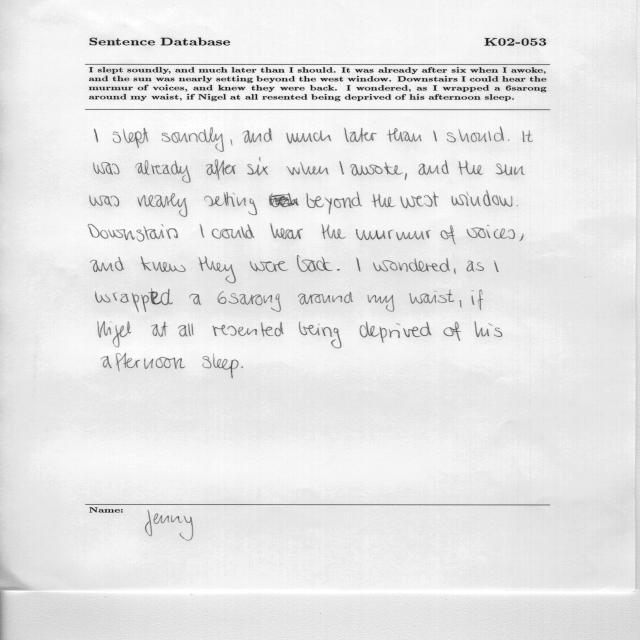word: (269, 192, 362, 215), (95, 289, 173, 313), (88, 224, 178, 242), (102, 353, 186, 372), (360, 321, 432, 343), (162, 127, 224, 152), (218, 291, 282, 312), (136, 160, 191, 183), (204, 192, 257, 215), (138, 193, 188, 217), (299, 322, 342, 348), (373, 258, 450, 272), (213, 322, 284, 337), (452, 190, 513, 207), (350, 163, 407, 181), (198, 257, 236, 284), (203, 354, 239, 379), (98, 322, 131, 348), (447, 127, 504, 142), (356, 229, 431, 240), (113, 128, 149, 148), (141, 256, 186, 272), (298, 292, 353, 305), (409, 289, 454, 304), (467, 225, 515, 239), (206, 159, 236, 180), (212, 224, 254, 239), (401, 192, 439, 208), (297, 255, 332, 272), (287, 131, 332, 144), (286, 162, 329, 175), (91, 257, 125, 272), (344, 128, 377, 143), (270, 224, 303, 239), (387, 128, 422, 142), (368, 295, 395, 312), (243, 128, 273, 143), (475, 321, 503, 337), (250, 261, 288, 272), (248, 158, 269, 176), (458, 160, 483, 175), (321, 224, 346, 239), (495, 164, 525, 176), (444, 322, 462, 341), (94, 162, 120, 175), (90, 196, 119, 207), (372, 194, 396, 207), (441, 225, 456, 245), (151, 321, 168, 337), (418, 163, 440, 175), (471, 290, 483, 310), (178, 324, 194, 337), (467, 261, 484, 272), (189, 294, 202, 305), (522, 130, 533, 142), (441, 160, 449, 174), (356, 257, 361, 272), (339, 161, 344, 174), (200, 224, 205, 237), (494, 260, 499, 272), (434, 131, 438, 142), (519, 234, 524, 242), (95, 129, 98, 142), (230, 140, 233, 146), (460, 300, 462, 308), (454, 268, 456, 274), (337, 269, 340, 271), (241, 366, 243, 368), (508, 139, 509, 141), (517, 206, 518, 207)
